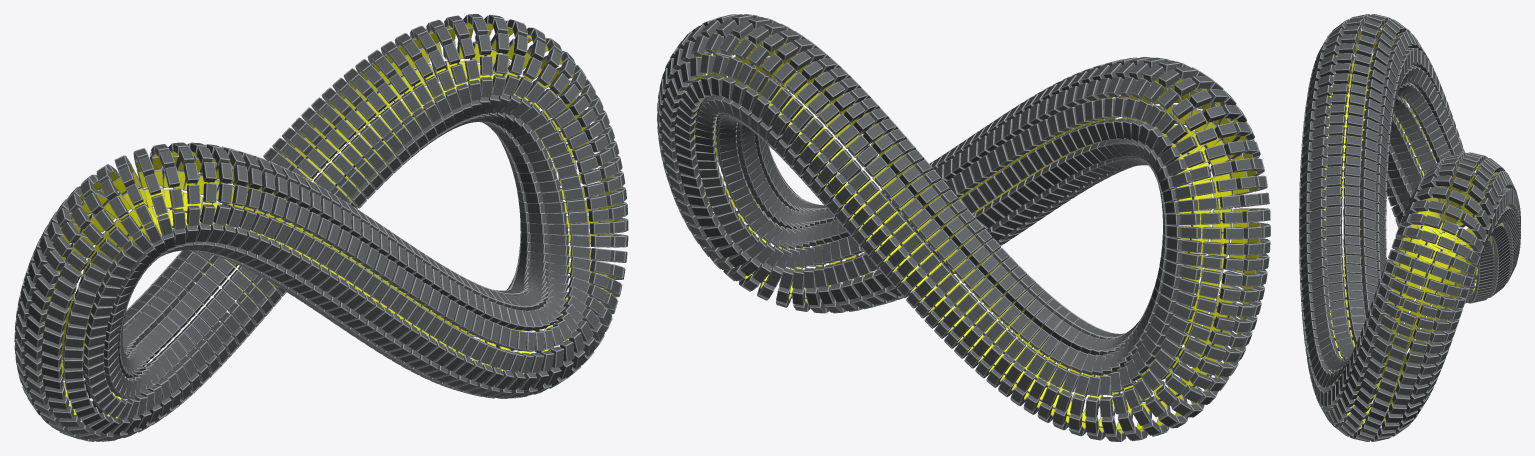
The model's file is infinity.glb.
The picture shows the model from 3 angles, left to right: view 1: azimuth 30°, elevation 25°; view 2: azimuth 150°, elevation 25°; view 3: azimuth 270°, elevation 25°; orthographic projection. The views are drawn at different scales.
Size of the model in its own units: 5.58 by 2.94 by 2.21.
